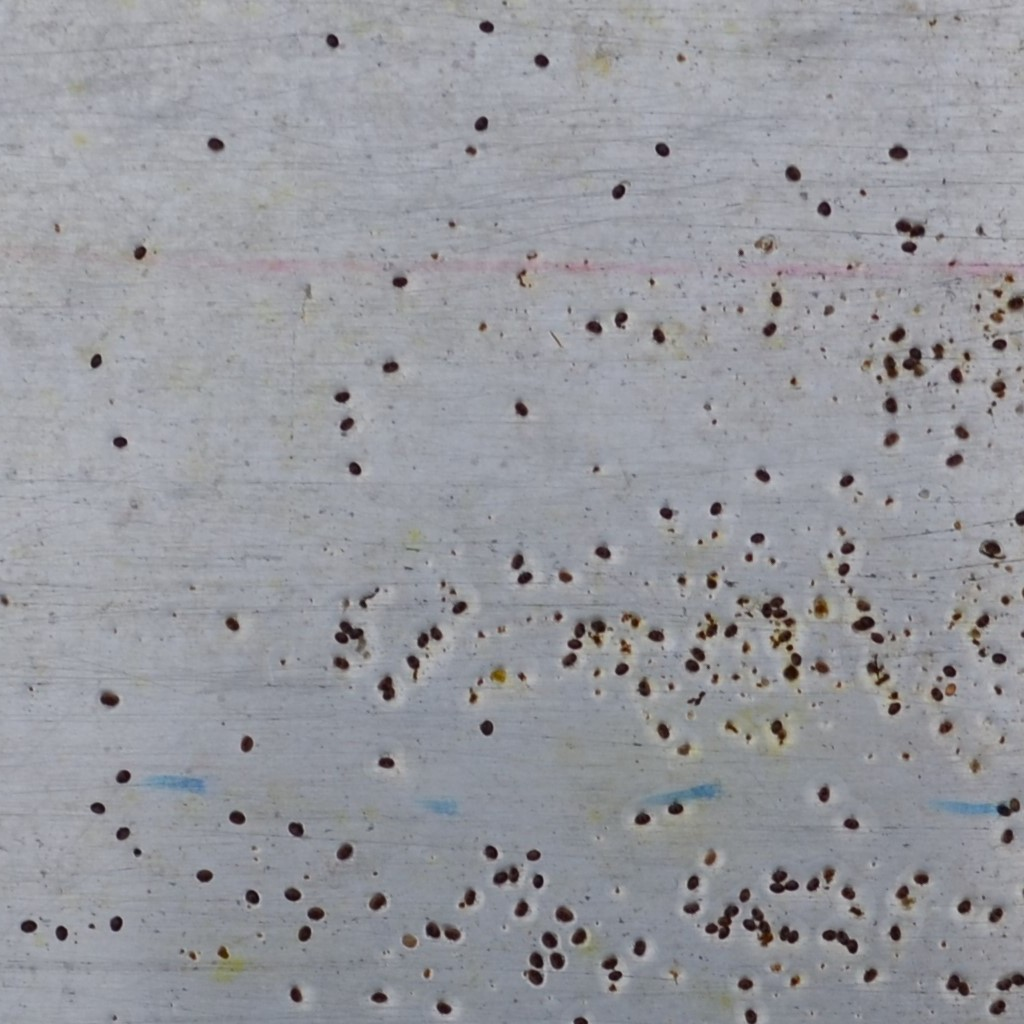varroa: (886, 140, 909, 163), (973, 603, 992, 630), (368, 890, 388, 915), (942, 448, 967, 468), (881, 428, 905, 448), (782, 163, 804, 184), (860, 962, 879, 986), (987, 993, 1006, 1016), (990, 647, 1008, 671), (987, 903, 1005, 927), (512, 895, 530, 919), (99, 690, 120, 710), (334, 840, 354, 861), (983, 538, 1004, 558), (935, 718, 956, 738), (854, 593, 875, 613), (993, 799, 1012, 821), (956, 895, 975, 917), (890, 320, 906, 345), (584, 318, 605, 337), (815, 197, 833, 219), (805, 875, 822, 898), (243, 887, 262, 907), (953, 421, 972, 441), (837, 469, 857, 488), (287, 819, 305, 840), (524, 968, 545, 986), (338, 415, 355, 437), (998, 824, 1015, 846), (288, 981, 304, 1004), (472, 114, 491, 133), (223, 614, 242, 633), (594, 544, 613, 563), (682, 899, 701, 918), (227, 807, 247, 825), (839, 882, 857, 902), (555, 903, 573, 923), (527, 949, 545, 969), (451, 597, 468, 618), (755, 465, 772, 486), (509, 548, 525, 570), (613, 307, 629, 329), (549, 949, 565, 971), (20, 918, 38, 937), (331, 654, 350, 672), (646, 626, 665, 644), (540, 930, 558, 949), (424, 919, 442, 938), (206, 135, 226, 152), (610, 181, 627, 201), (666, 799, 686, 816), (462, 887, 479, 907), (514, 398, 530, 419), (762, 319, 778, 340), (631, 936, 647, 957), (651, 324, 666, 346), (685, 870, 700, 892), (381, 358, 399, 376), (881, 395, 899, 413), (995, 975, 1013, 993), (633, 808, 651, 826), (569, 928, 587, 946), (346, 458, 363, 477), (194, 866, 213, 883), (516, 569, 533, 588), (894, 216, 911, 235), (990, 336, 1009, 353), (869, 627, 886, 646), (782, 665, 801, 682), (443, 924, 462, 941), (325, 29, 341, 49), (238, 734, 254, 754), (654, 140, 670, 160), (988, 378, 1008, 394), (561, 651, 577, 671), (483, 842, 499, 862), (434, 1000, 454, 1016), (887, 698, 902, 719), (958, 976, 971, 1000), (818, 783, 831, 807), (1008, 795, 1022, 817), (391, 272, 409, 289), (333, 387, 351, 404), (283, 885, 301, 902), (307, 905, 325, 922), (899, 238, 917, 255), (1006, 295, 1023, 313), (947, 367, 964, 385), (907, 343, 924, 361), (737, 976, 755, 993), (297, 923, 312, 943), (837, 557, 852, 577), (846, 937, 861, 957), (635, 676, 650, 696), (655, 720, 670, 740), (89, 349, 103, 370), (111, 433, 128, 450), (114, 768, 131, 785), (532, 52, 549, 69), (909, 224, 926, 241), (689, 645, 706, 662), (115, 824, 131, 842), (944, 973, 960, 991), (822, 927, 838, 945), (339, 618, 354, 637), (888, 923, 903, 942), (370, 989, 389, 1004), (600, 955, 620, 969), (478, 18, 495, 34), (405, 654, 421, 671), (901, 357, 917, 374), (840, 539, 856, 556), (913, 870, 930, 886), (894, 883, 910, 900), (844, 815, 861, 831), (742, 1006, 758, 1023), (478, 720, 494, 737), (491, 870, 508, 886), (429, 623, 444, 641), (378, 672, 393, 690), (943, 680, 958, 698), (683, 659, 701, 674), (524, 848, 542, 863), (710, 500, 724, 519), (769, 868, 788, 882), (882, 354, 898, 370), (861, 613, 877, 629), (614, 661, 630, 677), (90, 800, 107, 815), (54, 925, 69, 942), (350, 626, 365, 643), (659, 505, 674, 522), (723, 622, 738, 639), (132, 242, 146, 260), (109, 915, 123, 933), (377, 755, 395, 769), (771, 288, 783, 309), (851, 616, 865, 634), (717, 924, 731, 942), (334, 630, 350, 645), (942, 663, 958, 678), (741, 917, 757, 932), (556, 569, 572, 584), (590, 619, 606, 634), (415, 631, 429, 648), (749, 530, 766, 544), (771, 605, 788, 619), (750, 906, 767, 920), (704, 921, 718, 938), (836, 928, 849, 946), (1012, 506, 1023, 527), (606, 969, 625, 981), (789, 650, 804, 665), (784, 877, 799, 892), (930, 687, 944, 703), (723, 903, 739, 917), (531, 872, 545, 888), (768, 881, 785, 894), (572, 622, 585, 639), (565, 636, 582, 649), (716, 913, 733, 926), (1012, 967, 1023, 987), (778, 923, 789, 943), (770, 593, 785, 607), (378, 691, 397, 702), (770, 717, 782, 734), (507, 866, 519, 883), (703, 577, 719, 589), (738, 886, 750, 902), (757, 920, 773, 932), (761, 599, 771, 618), (885, 366, 900, 378), (787, 929, 798, 945), (571, 1015, 591, 1023), (999, 594, 1012, 606)
